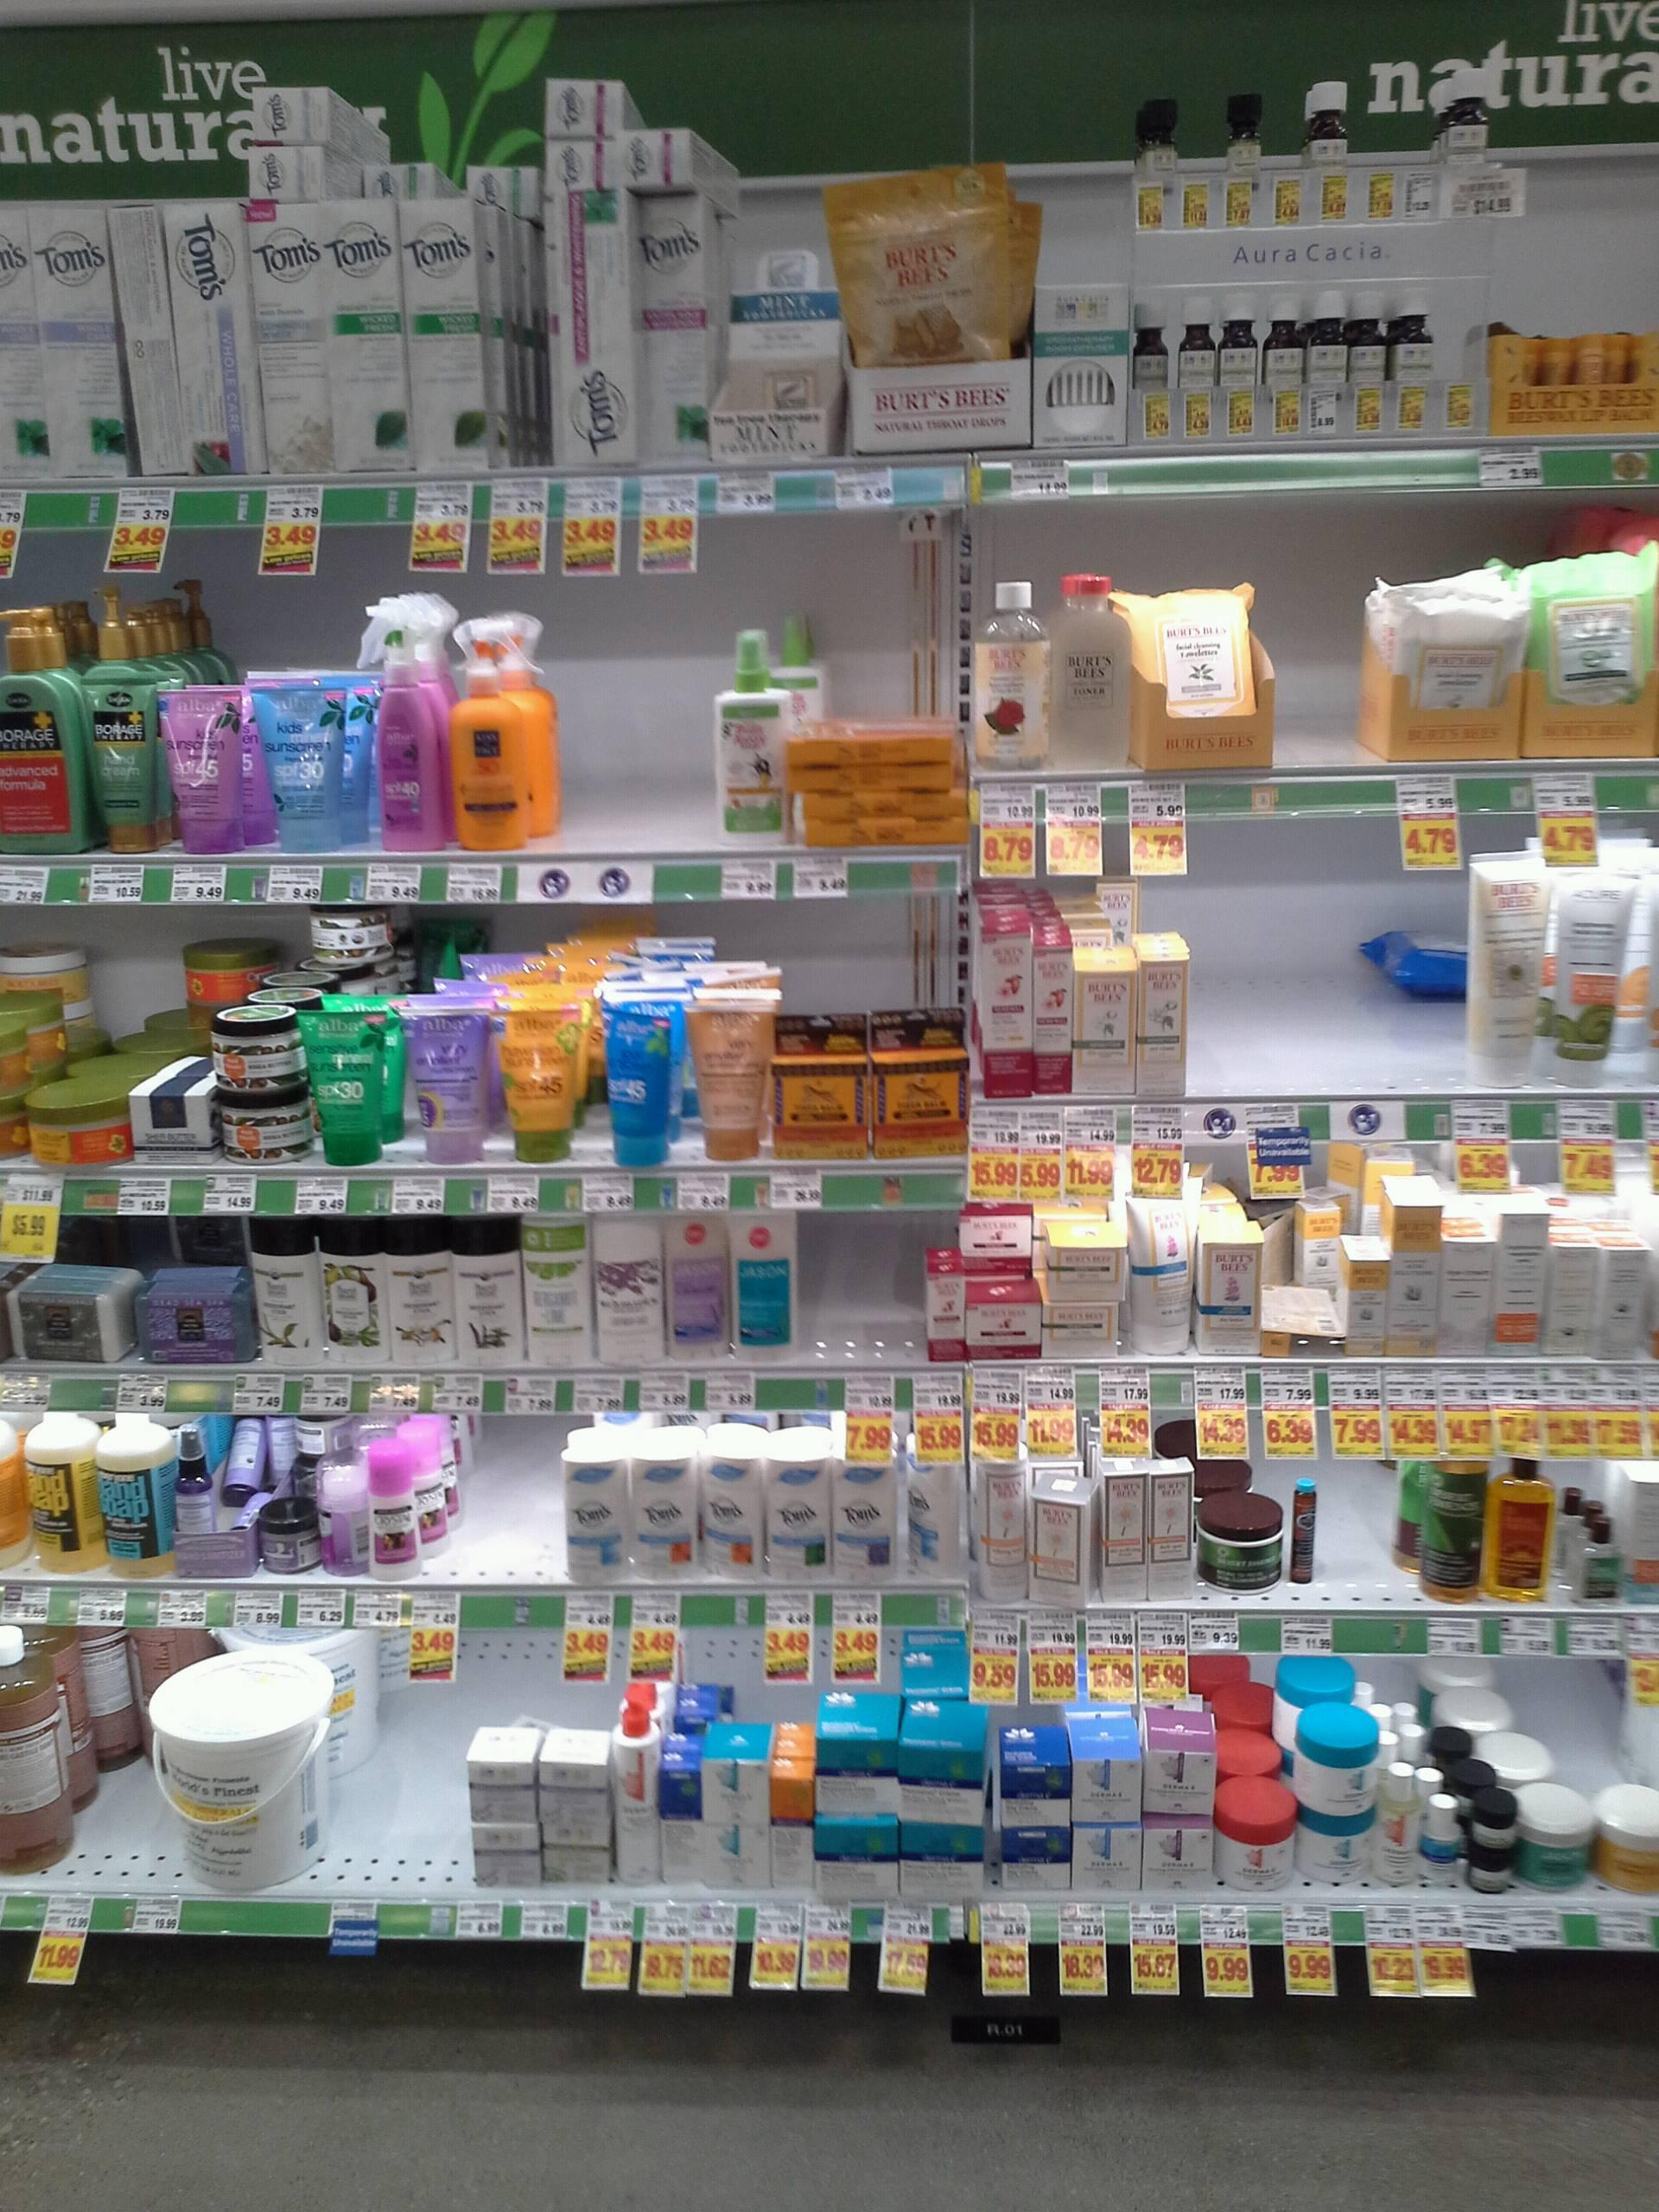empty: (1187, 888, 1364, 1085), (563, 625, 713, 843), (1283, 549, 1363, 759), (387, 1693, 467, 1885), (805, 1221, 911, 1353), (474, 1430, 556, 1575)
misalignment: (1239, 1177, 1351, 1357), (214, 1413, 291, 1534), (1366, 930, 1478, 1007)
